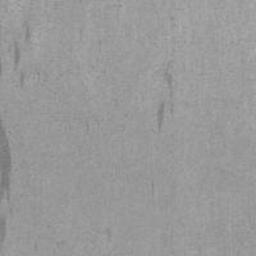Water spot: (0, 113, 14, 255), (156, 58, 182, 134), (13, 23, 33, 90), (0, 52, 4, 78)
